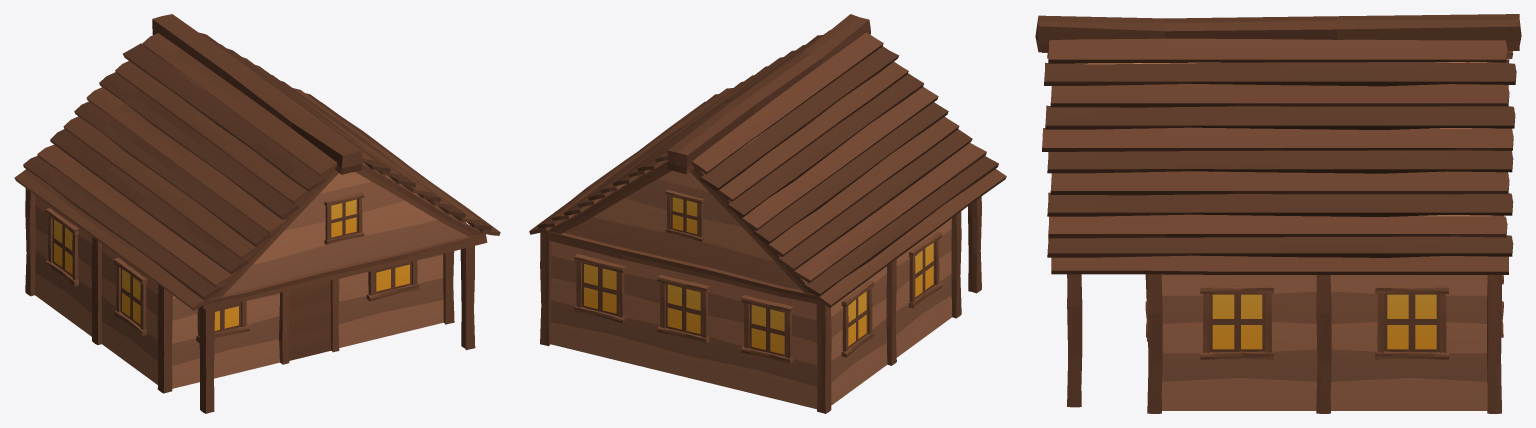
The model's file is secret-house-2.glb.
The picture shows the model from 3 angles, left to right: view 1: azimuth 30°, elevation 25°; view 2: azimuth 150°, elevation 25°; view 3: azimuth 270°, elevation 25°; orthographic projection. The views are drawn at different scales.
Parts seen in each view (by area): view 1: secret house 2; view 2: secret house 2; view 3: secret house 2.
Boxes of the visible parts, left/top/right/bottom form: secret house 2: left=14, top=14, right=500, bottom=413; secret house 2: left=529, top=14, right=1006, bottom=413; secret house 2: left=1035, top=14, right=1521, bottom=413.
Bounding box in the file's own units: 6.83 × 5.01 × 7.29.
1 material, 1 textured.
